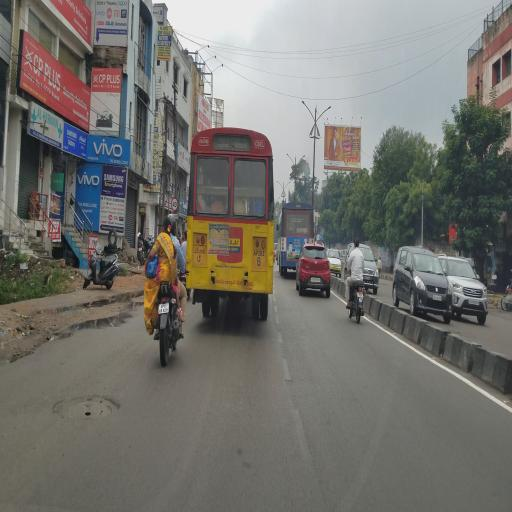street_light_0: (314, 98, 336, 146), (296, 91, 318, 138), (296, 148, 310, 180), (281, 144, 295, 176)
